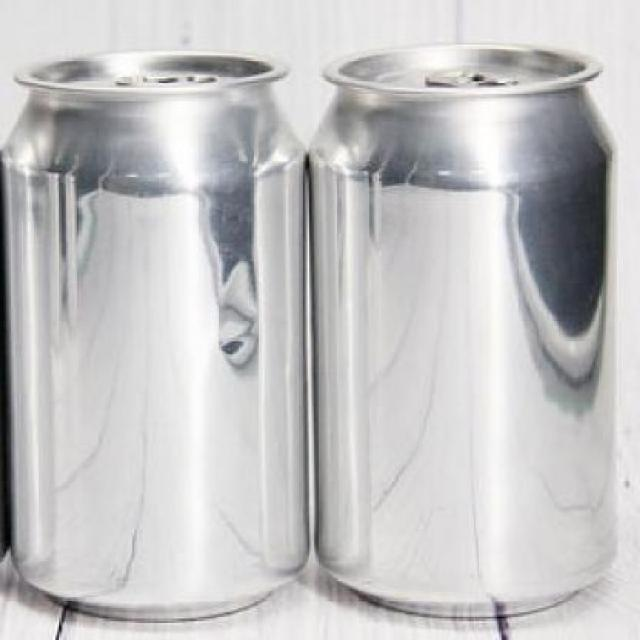can: (1, 28, 308, 628), (310, 40, 624, 620)
